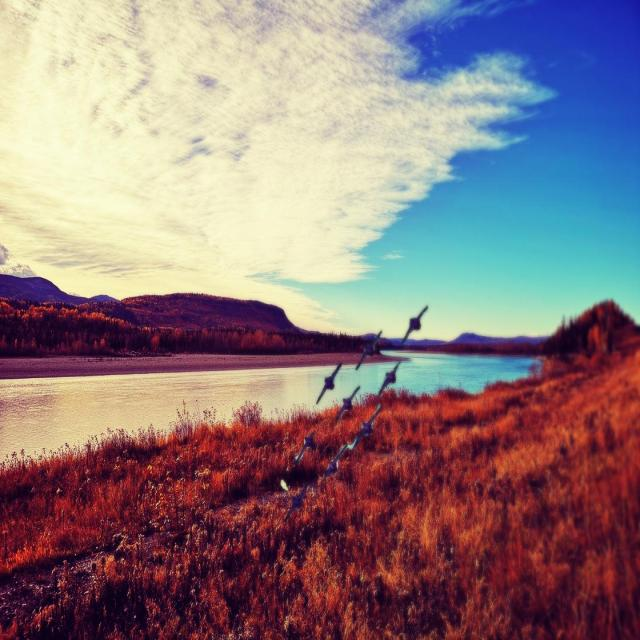airplane: (352, 406, 386, 440), (398, 304, 428, 342), (315, 362, 342, 404), (320, 444, 348, 482), (334, 384, 360, 422), (354, 330, 382, 362), (377, 361, 400, 397), (285, 482, 307, 518), (294, 430, 319, 461)
